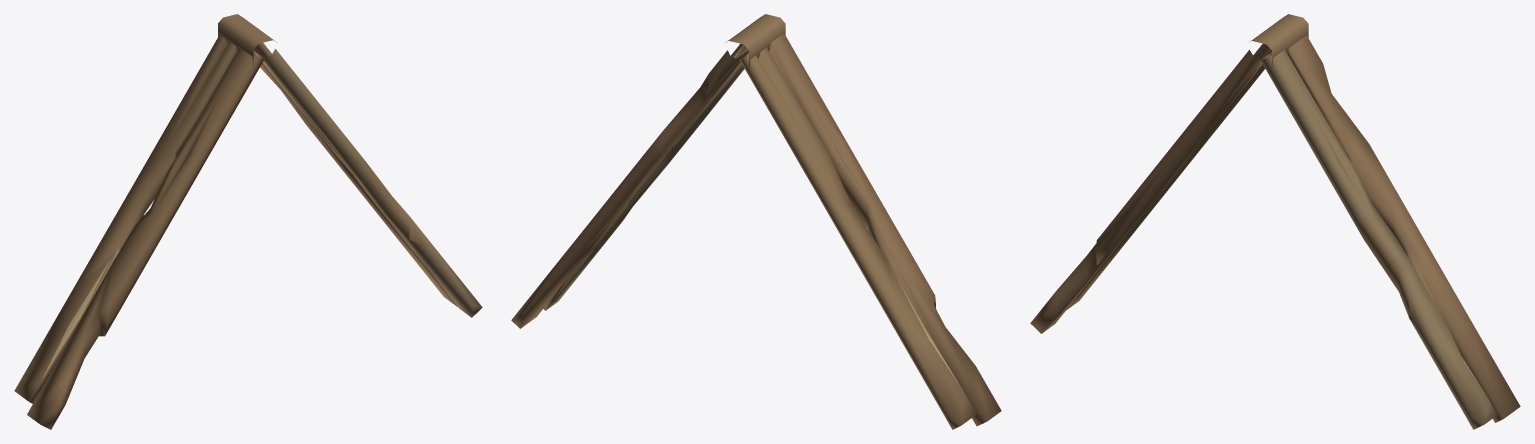
The model's file is rpgpp_av_roof_02_6x5x3_end_01.gltf.
3 renders of one model, left to right at view 1: azimuth 30°, elevation 25°; view 2: azimuth 150°, elevation 25°; view 3: azimuth 330°, elevation 25°, orthographic. The views are drawn at different scales.
Parts seen in each view (by area): view 1: rpgpp_av_roof_02_6x5x3_end_01; view 2: rpgpp_av_roof_02_6x5x3_end_01; view 3: rpgpp_av_roof_02_6x5x3_end_01.
Part boxes in pixels (<box>): rpgpp_av_roof_02_6x5x3_end_01: <box>14,14,482,429</box>; rpgpp_av_roof_02_6x5x3_end_01: <box>511,14,1001,429</box>; rpgpp_av_roof_02_6x5x3_end_01: <box>1030,14,1520,429</box>.
Bounding box in the file's own units: 0.0719 × 0.052 × 0.01.
1 material, 1 textured.
